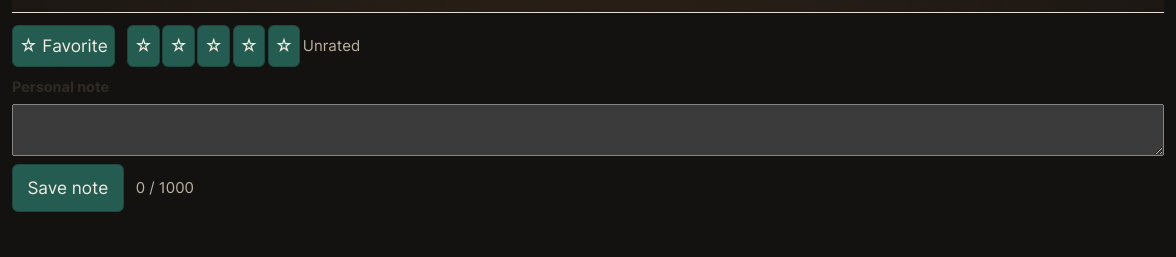
CollectionItemPersonalControls › reverts the control and shows a recoverable error when a save fails
Click the button with aria-label "Favorite this record".
click(64, 46)  # box [12,25,115,67]
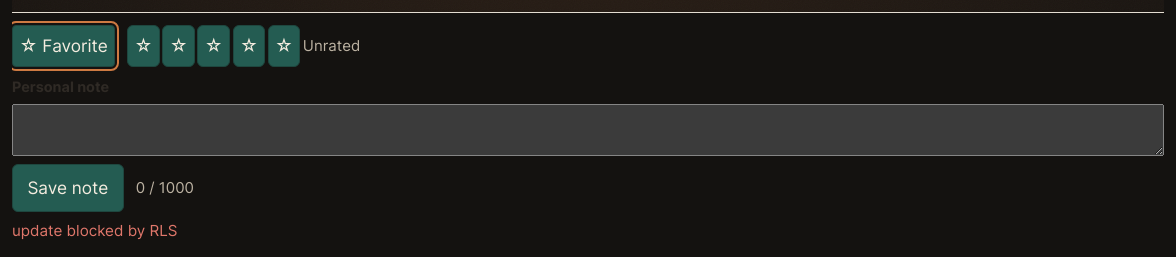
Expected: the message reads "update blocked by RLS", [12,221,178,240]
